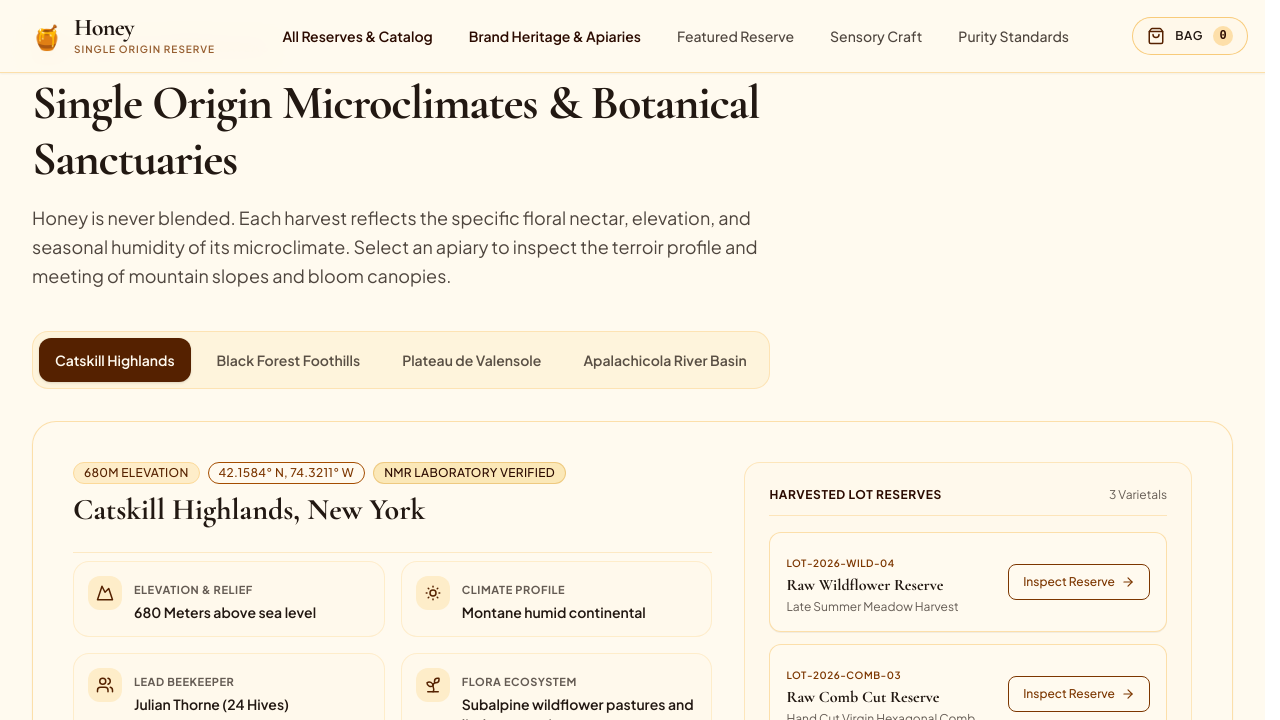
Test: Brand Heritage & Apiary Story E2E (Spec 0006) › AC-2 & AC-6: Click Plateau de Valensole origin tab and verify shallow URL, terroir metrics, and reserve jar
(page scrolled)
Click the tab with id "origin-tab-valensole-plateau" at (472, 360), box 386,338 -> 557,382
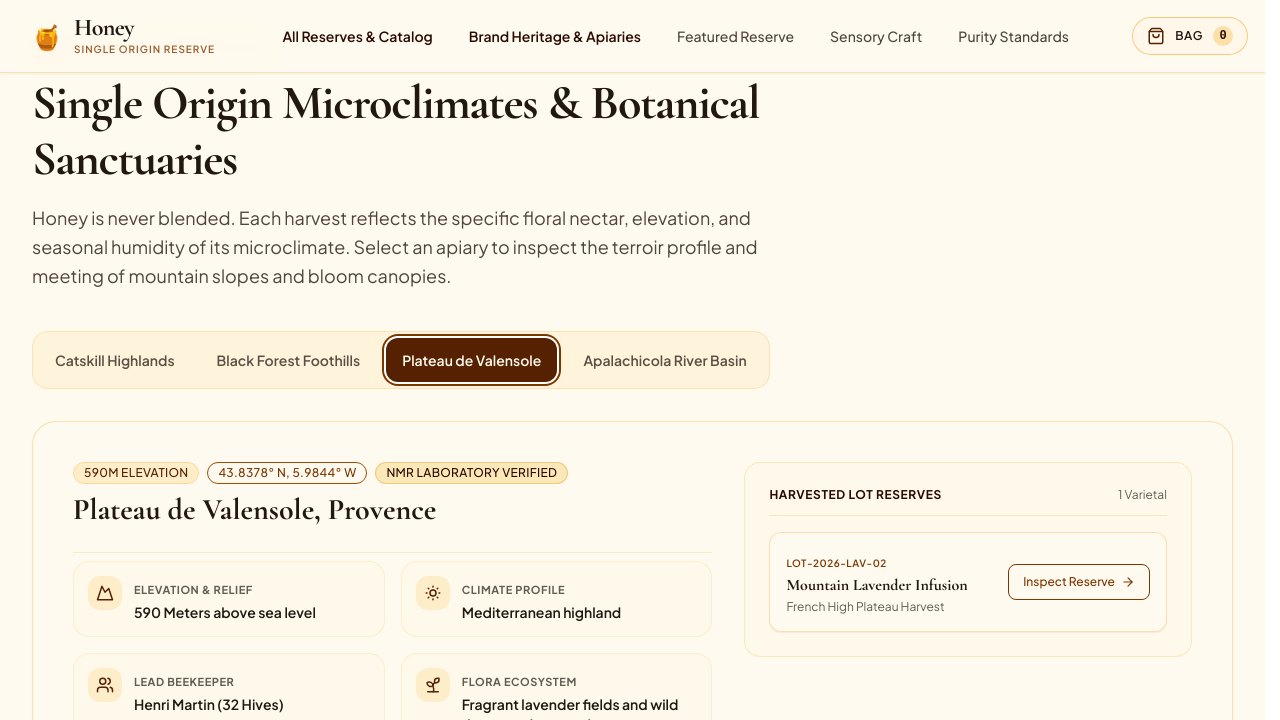
Expected: the text "590m Elevation" is shown, 73,462 -> 199,484
Expected: the text "Henri Martin" is shown, 134,695 -> 215,713
Expected: the text "32 Hives" is shown, 134,694 -> 284,714
